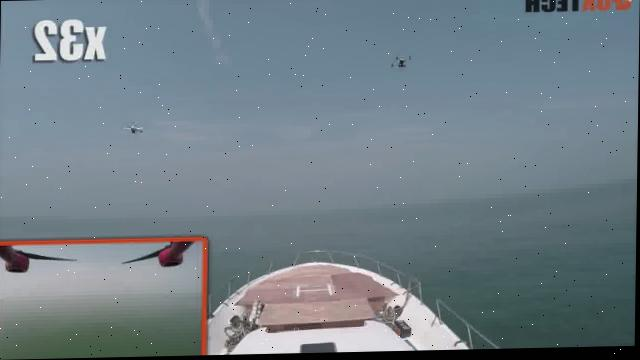drone: (377, 45, 419, 77), (115, 115, 150, 142)
